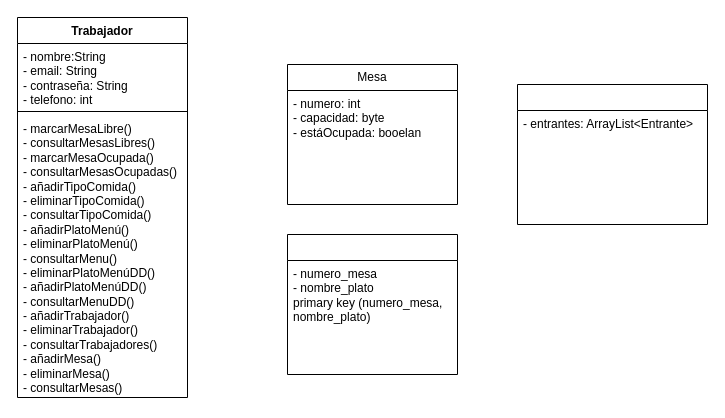
Some shapes in this 725 by 418 pixel diagram are drawn without their labels. Each missing label, with the box of its shape:
Menú: (516, 84, 708, 224)
Platos_Pedidos: (286, 234, 458, 374)
